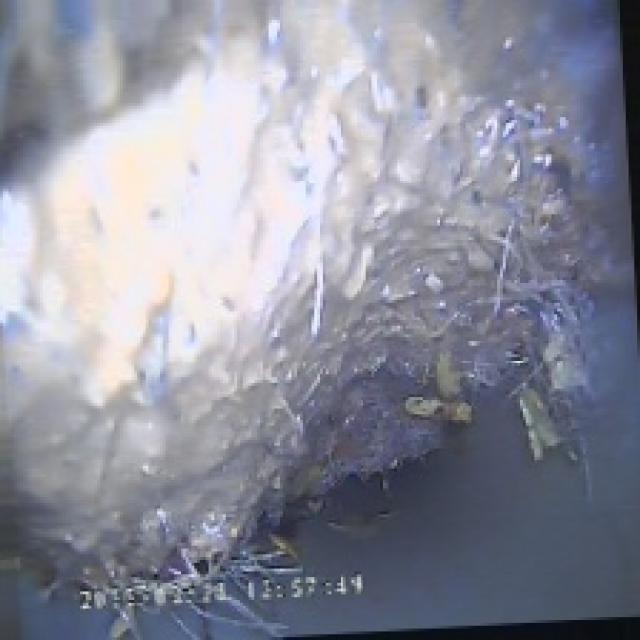sluge accumulation: (34, 20, 594, 546)
